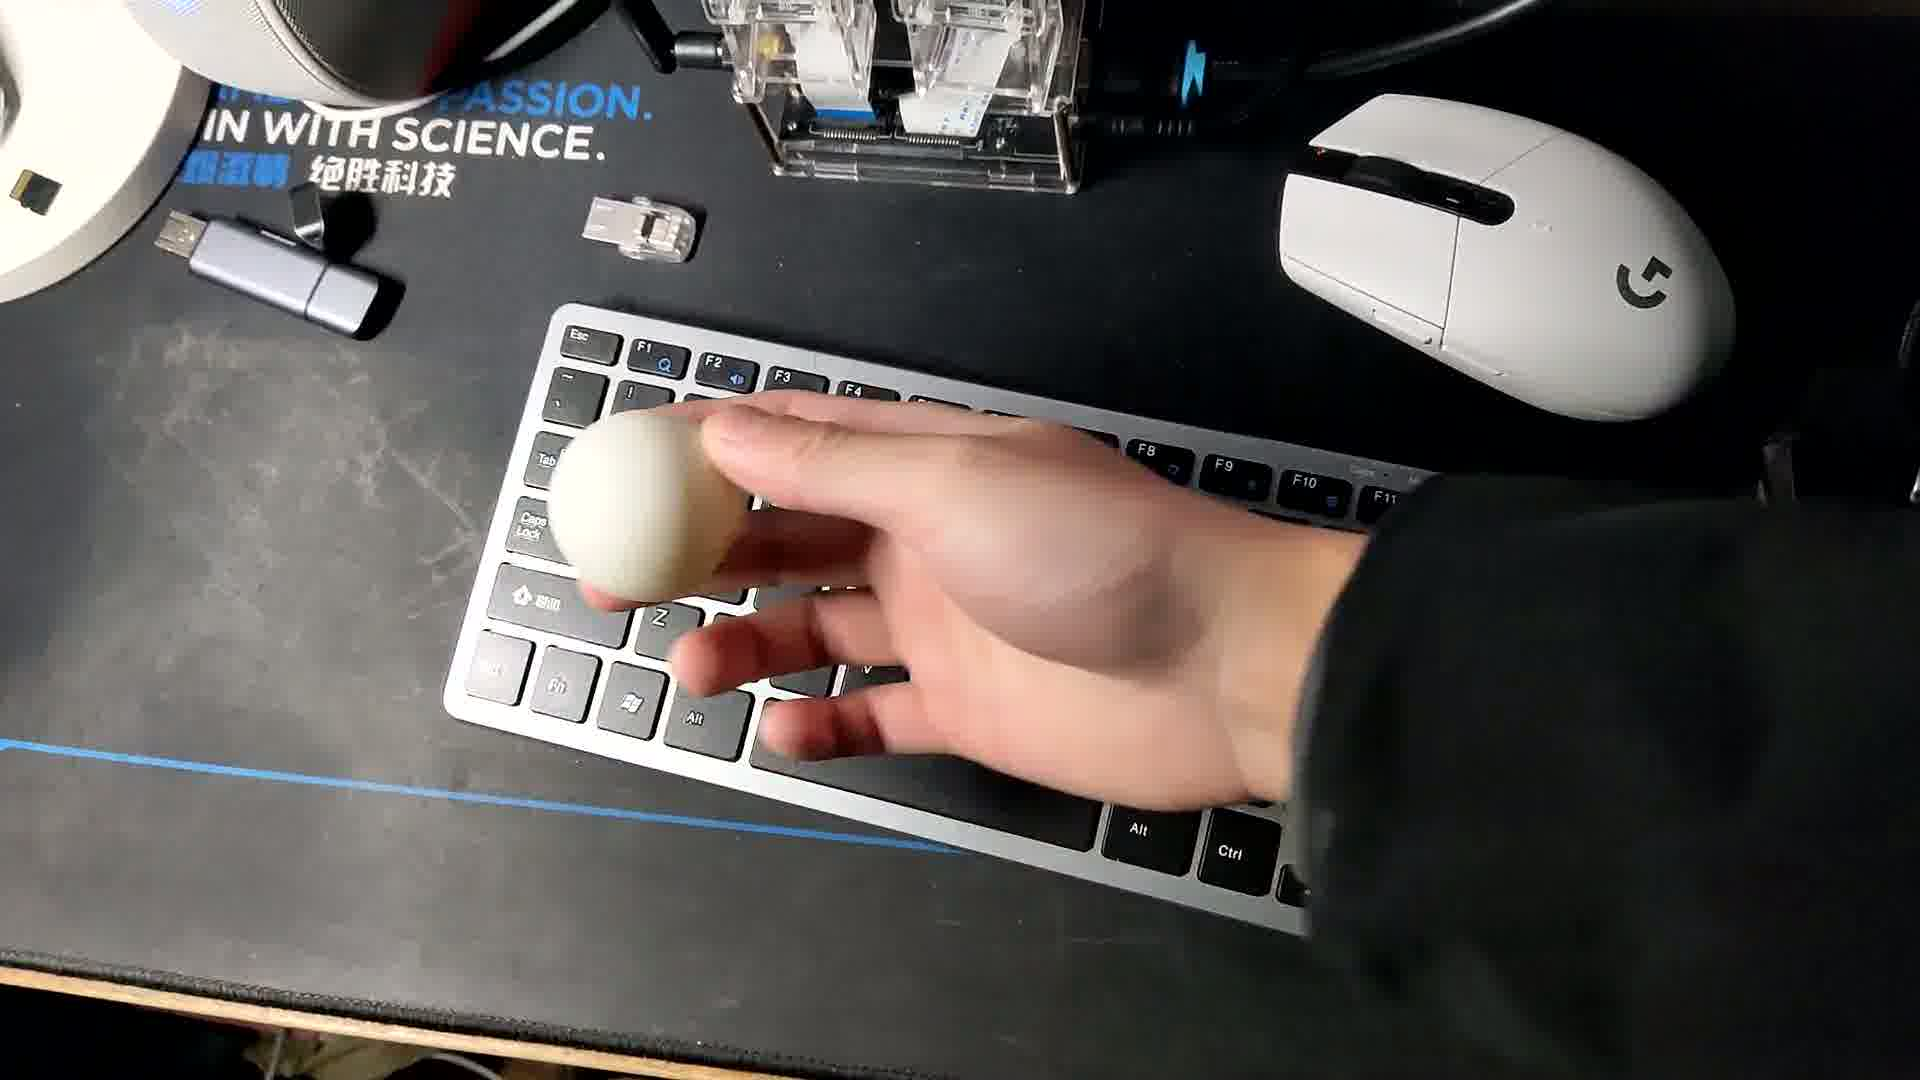Ball: (550, 417, 746, 600)
